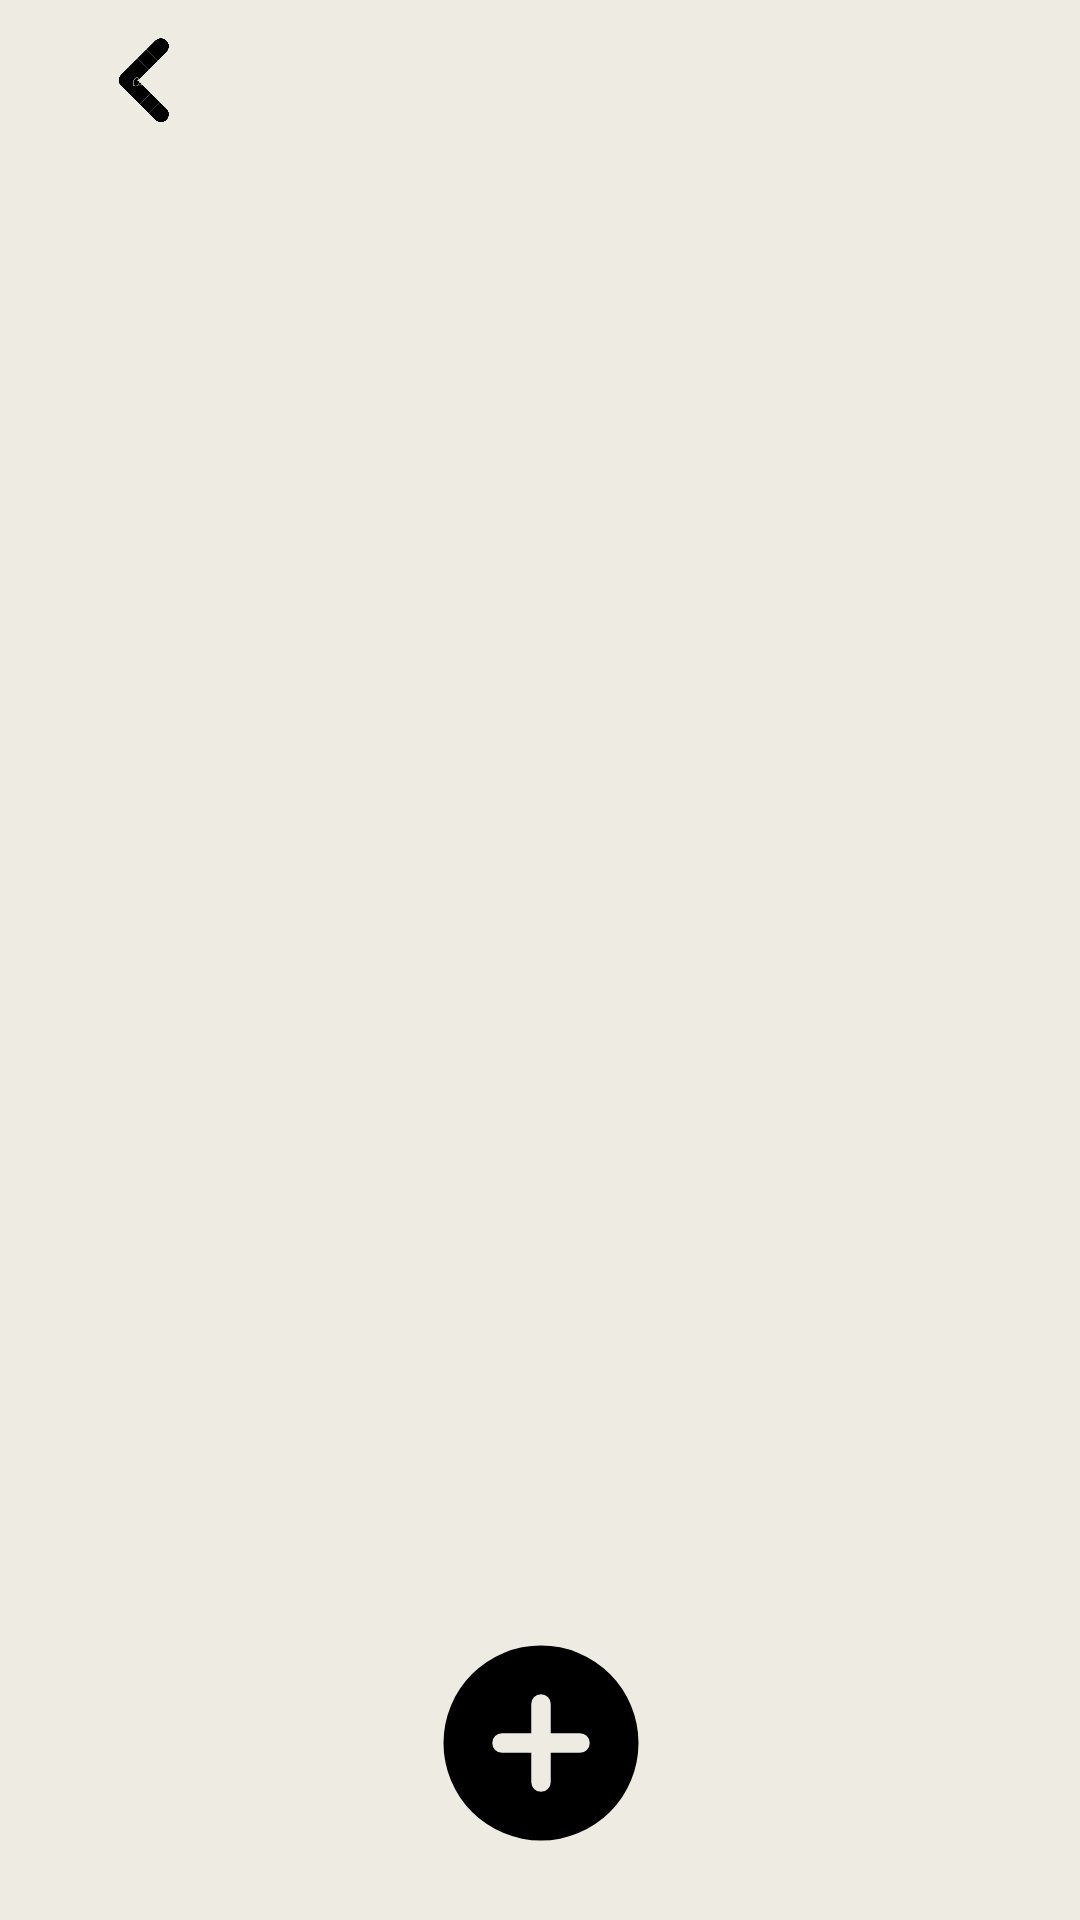

Icon bounding boxes for this 1080 × 1920 phone screenshot, format (x1, y1, x2, y2):
add: (443, 1645, 639, 1841)
backbutton: (119, 38, 169, 122)
